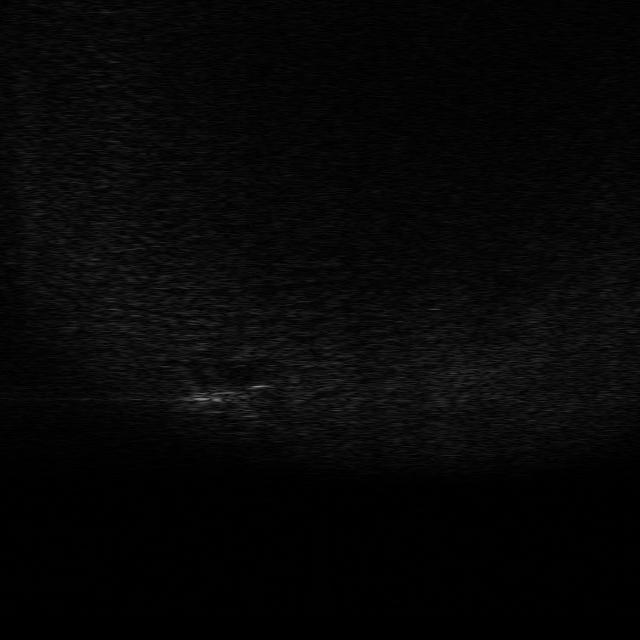plane: (174, 372, 272, 419)
